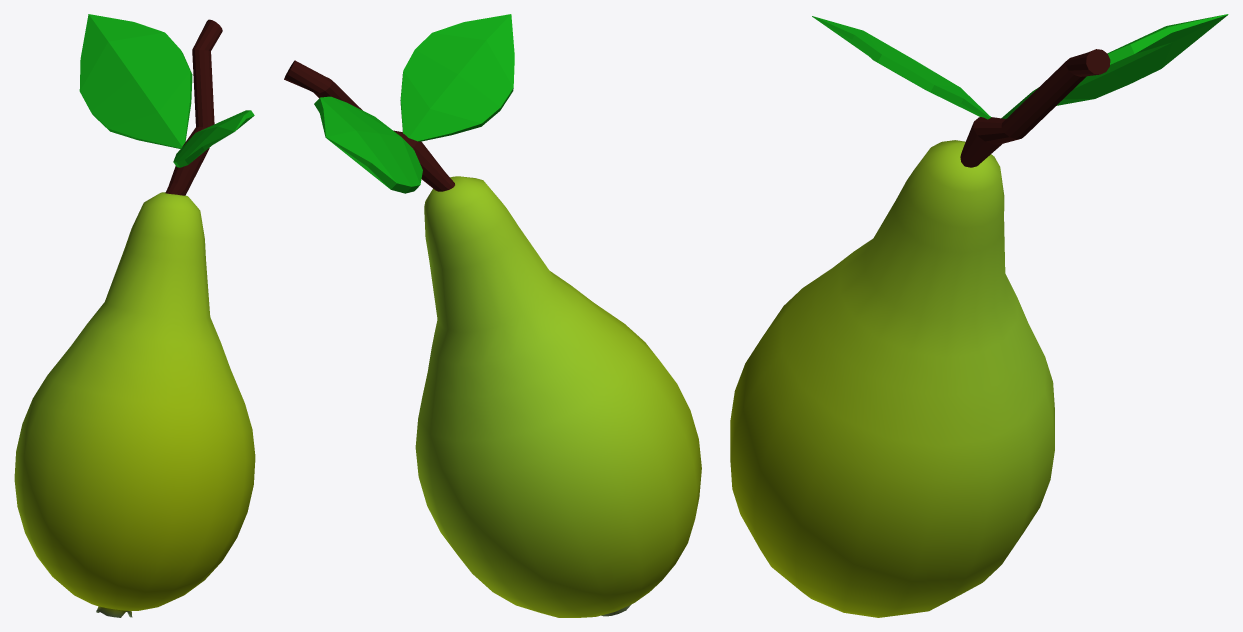
Rendered from груша.fbx.
The picture shows the model from 3 angles, left to right: view 1: azimuth 30°, elevation 25°; view 2: azimuth 150°, elevation 25°; view 3: azimuth 270°, elevation 25°; orthographic projection. The views are drawn at different scales.
Visible parts, largest first — view 1: Sphere.002; view 2: Sphere.002; view 3: Sphere.002.
Boxes of the visible parts, x1,y1,x2,y2 form: Sphere.002: (14,14,255,617); Sphere.002: (284,14,701,617); Sphere.002: (730,14,1228,617).
Bounding box in the file's own units: 169 × 299 × 202.
